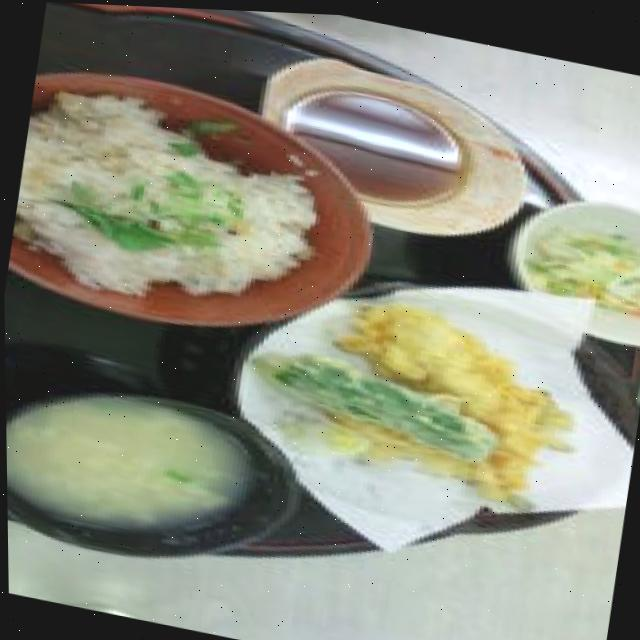米饭主食: (6, 52, 379, 353)
